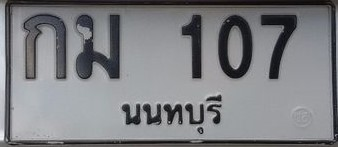txt01: (22, 13, 68, 81)
txt28: (73, 13, 122, 80)
